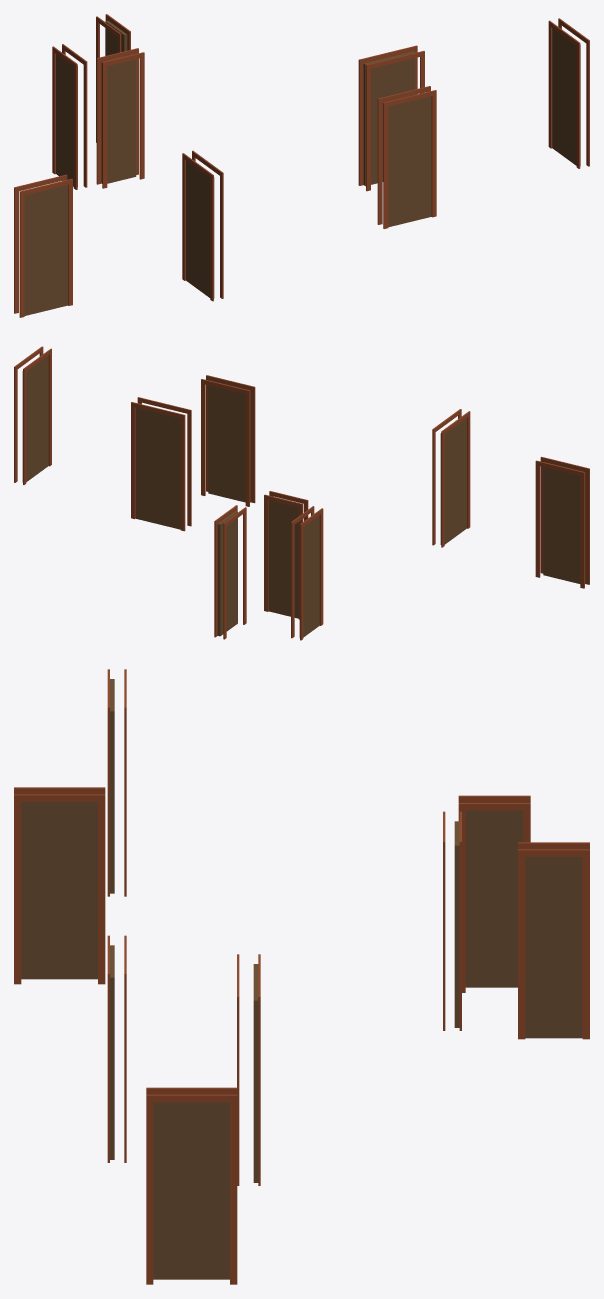
File: PROJETO BIM 12 ANDARES_Primeiro_pavimento_IfcDoor.dae
3 renders of one model, top to bottom at view 1: azimuth 30°, elevation 25°; view 2: azimuth 150°, elevation 25°; view 3: azimuth 270°, elevation 25°, orthographic. The views are drawn at different scales.
Parts seen in each view (by area): view 1: 21dPFGigL2Mxi$rUJVg1j1, 21dPFGigL2Mxi$rUJVg1lO, 21dPFGigL2Mxi$rUJVg1gE, 21dPFGigL2Mxi$rUJVg1kY, 21dPFGigL2Mxi$rUJVg1jJ, 21dPFGigL2Mxi$rUJVg1ej, 21dPFGigL2Mxi$rUJVg1s1, 21dPFGigL2Mxi$rUJVg1sc; view 2: 21dPFGigL2Mxi$rUJVg1ej, 21dPFGigL2Mxi$rUJVg1lO, 21dPFGigL2Mxi$rUJVg1j1, 21dPFGigL2Mxi$rUJVg1jJ, 21dPFGigL2Mxi$rUJVg1gE, 21dPFGigL2Mxi$rUJVg1kY, 21dPFGigL2Mxi$rUJVg1s1, 21dPFGigL2Mxi$rUJVg1sc; view 3: 21dPFGigL2Mxi$rUJVg1kY, 21dPFGigL2Mxi$rUJVg1jJ, 21dPFGigL2Mxi$rUJVg1sc, 21dPFGigL2Mxi$rUJVg1s1, 21dPFGigL2Mxi$rUJVg1ej, 21dPFGigL2Mxi$rUJVg1lO, 21dPFGigL2Mxi$rUJVg1j1, 21dPFGigL2Mxi$rUJVg1gE.
Part boxes in pixels (x1=…): 21dPFGigL2Mxi$rUJVg1j1: x1=377, y1=86, x2=436, y2=228; 21dPFGigL2Mxi$rUJVg1lO: x1=14, y1=174, x2=72, y2=317; 21dPFGigL2Mxi$rUJVg1gE: x1=96, y1=48, x2=144, y2=188; 21dPFGigL2Mxi$rUJVg1kY: x1=548, y1=18, x2=589, y2=168; 21dPFGigL2Mxi$rUJVg1jJ: x1=182, y1=150, x2=223, y2=301; 21dPFGigL2Mxi$rUJVg1ej: x1=358, y1=45, x2=424, y2=191; 21dPFGigL2Mxi$rUJVg1s1: x1=52, y1=44, x2=87, y2=189; 21dPFGigL2Mxi$rUJVg1sc: x1=96, y1=14, x2=130, y2=142; 21dPFGigL2Mxi$rUJVg1ej: x1=131, y1=397, x2=191, y2=531; 21dPFGigL2Mxi$rUJVg1lO: x1=535, y1=456, x2=589, y2=588; 21dPFGigL2Mxi$rUJVg1j1: x1=201, y1=375, x2=255, y2=506; 21dPFGigL2Mxi$rUJVg1jJ: x1=432, y1=409, x2=470, y2=547; 21dPFGigL2Mxi$rUJVg1gE: x1=264, y1=491, x2=308, y2=619; 21dPFGigL2Mxi$rUJVg1kY: x1=14, y1=346, x2=51, y2=484; 21dPFGigL2Mxi$rUJVg1s1: x1=291, y1=506, x2=323, y2=640; 21dPFGigL2Mxi$rUJVg1sc: x1=214, y1=505, x2=246, y2=639; 21dPFGigL2Mxi$rUJVg1kY: x1=146, y1=1087, x2=237, y2=1284; 21dPFGigL2Mxi$rUJVg1jJ: x1=14, y1=787, x2=105, y2=984; 21dPFGigL2Mxi$rUJVg1sc: x1=518, y1=842, x2=589, y2=1039; 21dPFGigL2Mxi$rUJVg1s1: x1=458, y1=795, x2=530, y2=992; 21dPFGigL2Mxi$rUJVg1ej: x1=237, y1=954, x2=260, y2=1185; 21dPFGigL2Mxi$rUJVg1lO: x1=107, y1=669, x2=126, y2=896; 21dPFGigL2Mxi$rUJVg1j1: x1=107, y1=935, x2=126, y2=1162; 21dPFGigL2Mxi$rUJVg1gE: x1=443, y1=811, x2=461, y2=1030.
Size of the model in its own units: 10.54 by 6.01 by 2.18.
